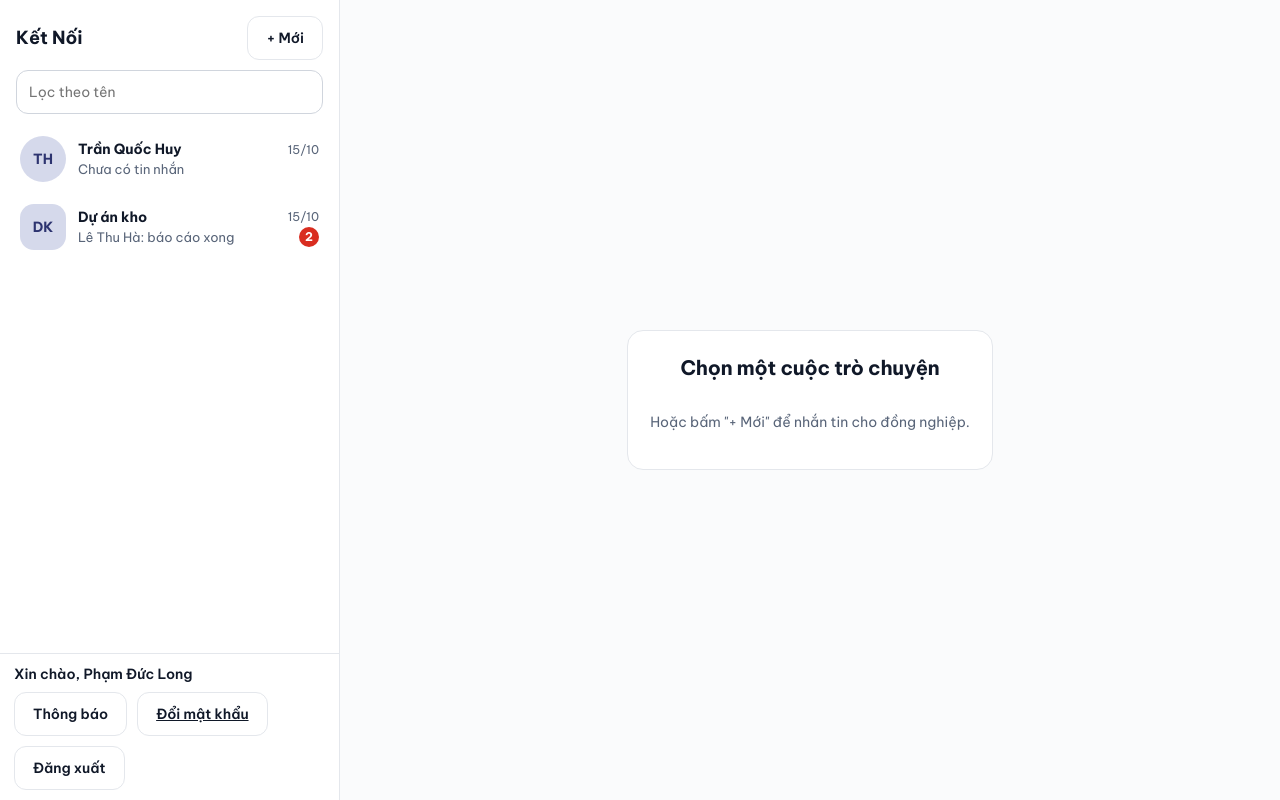
Test case: notifications in the chat layout › enables browser notifications from the settings dialog
The image size is (1280, 800).
Step 1. Click the button with aria-label "Cài đặt thông báo" → (71, 714), box [14,692,127,736]
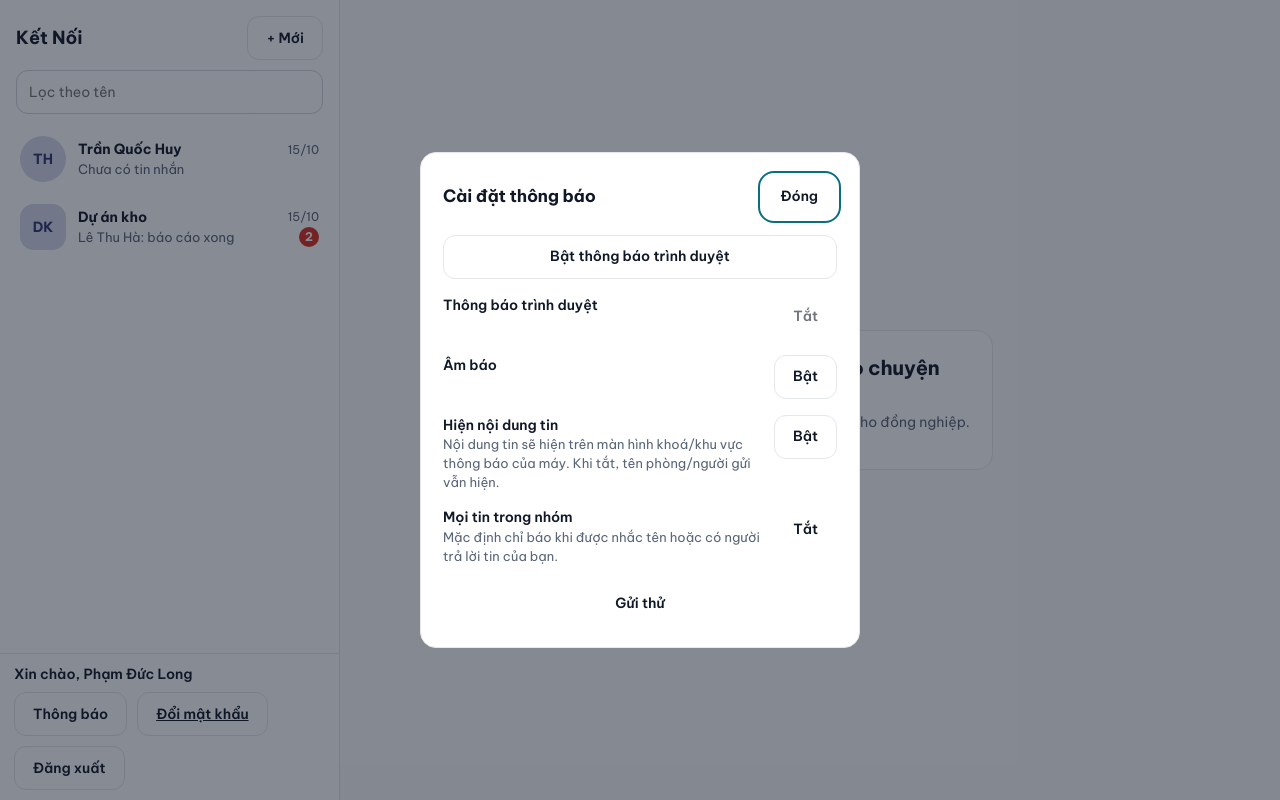
Expected: the dialog "Cài đặt thông báo" is shown, [420,152,860,648]
Step 2. Click the button "Bật thông báo trình duyệt" → (640, 257), box [443,235,837,279]
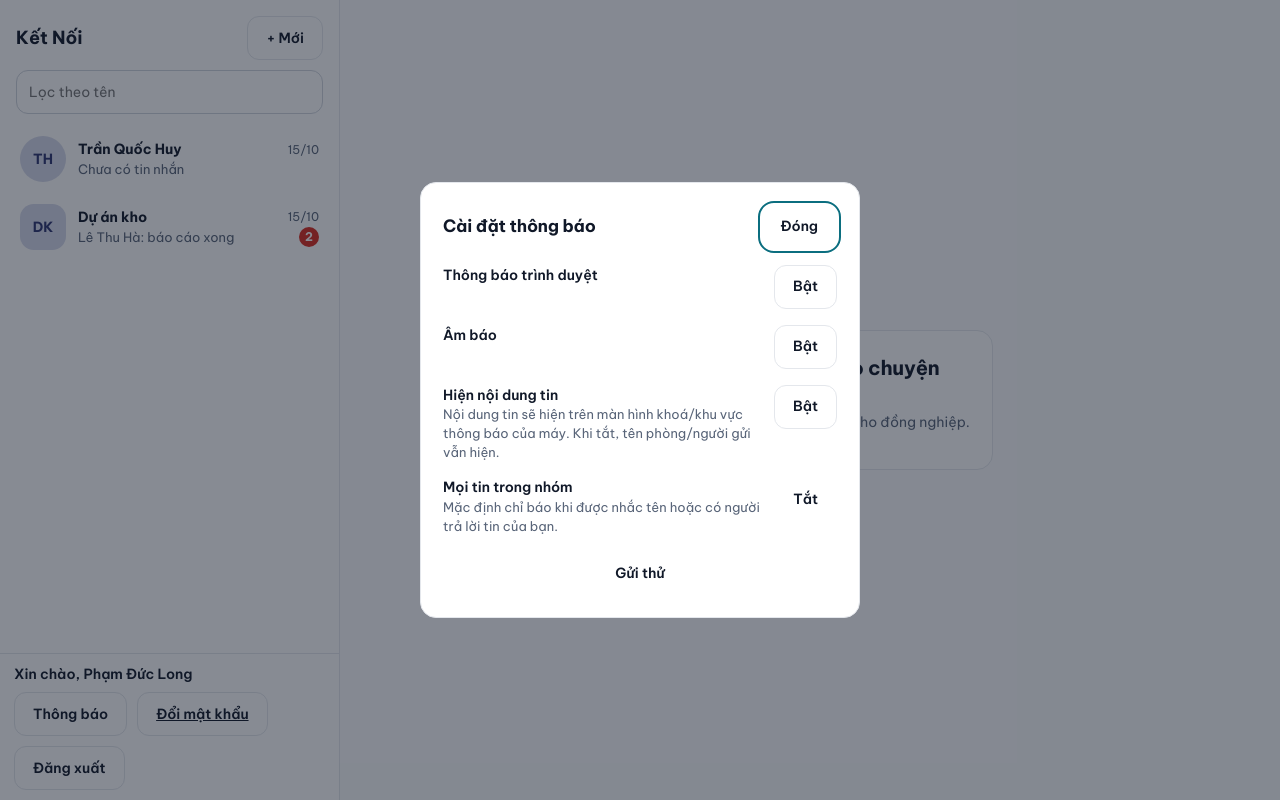
Expected: the switch named "Thông báo trình duyệt" is checked, [774,265,837,309]
Step 3. Press Escape
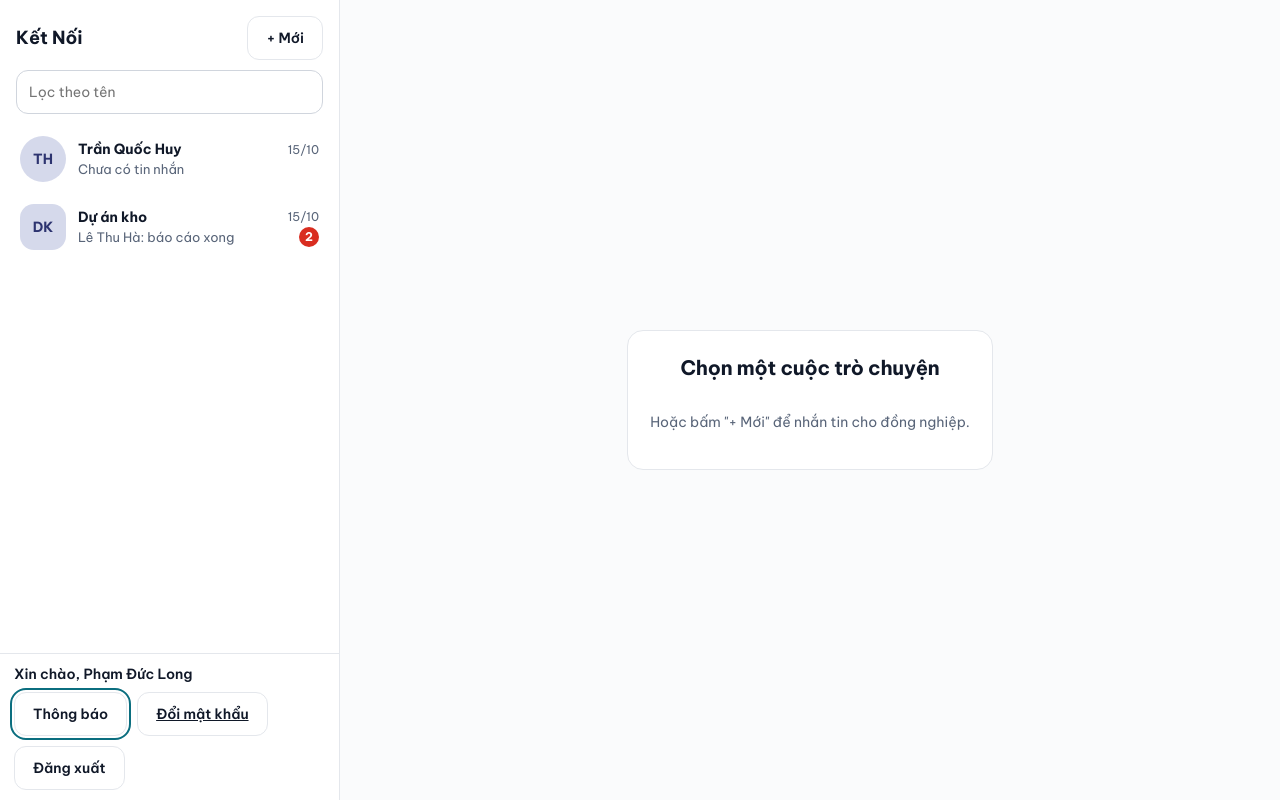
Expected: the dialog is gone
